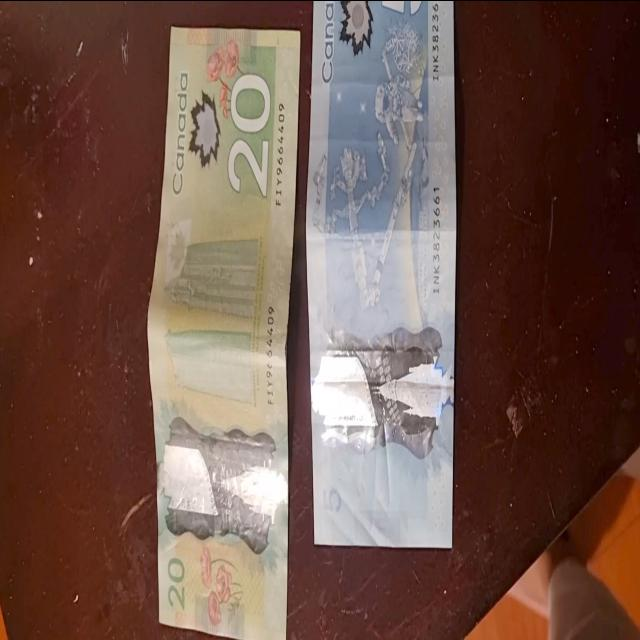20 cad: (157, 21, 299, 620)
5 cad: (312, 1, 453, 544)
